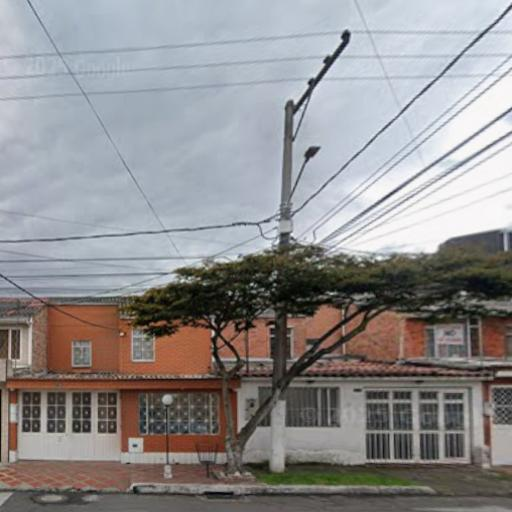poste: (270, 72, 306, 478)
